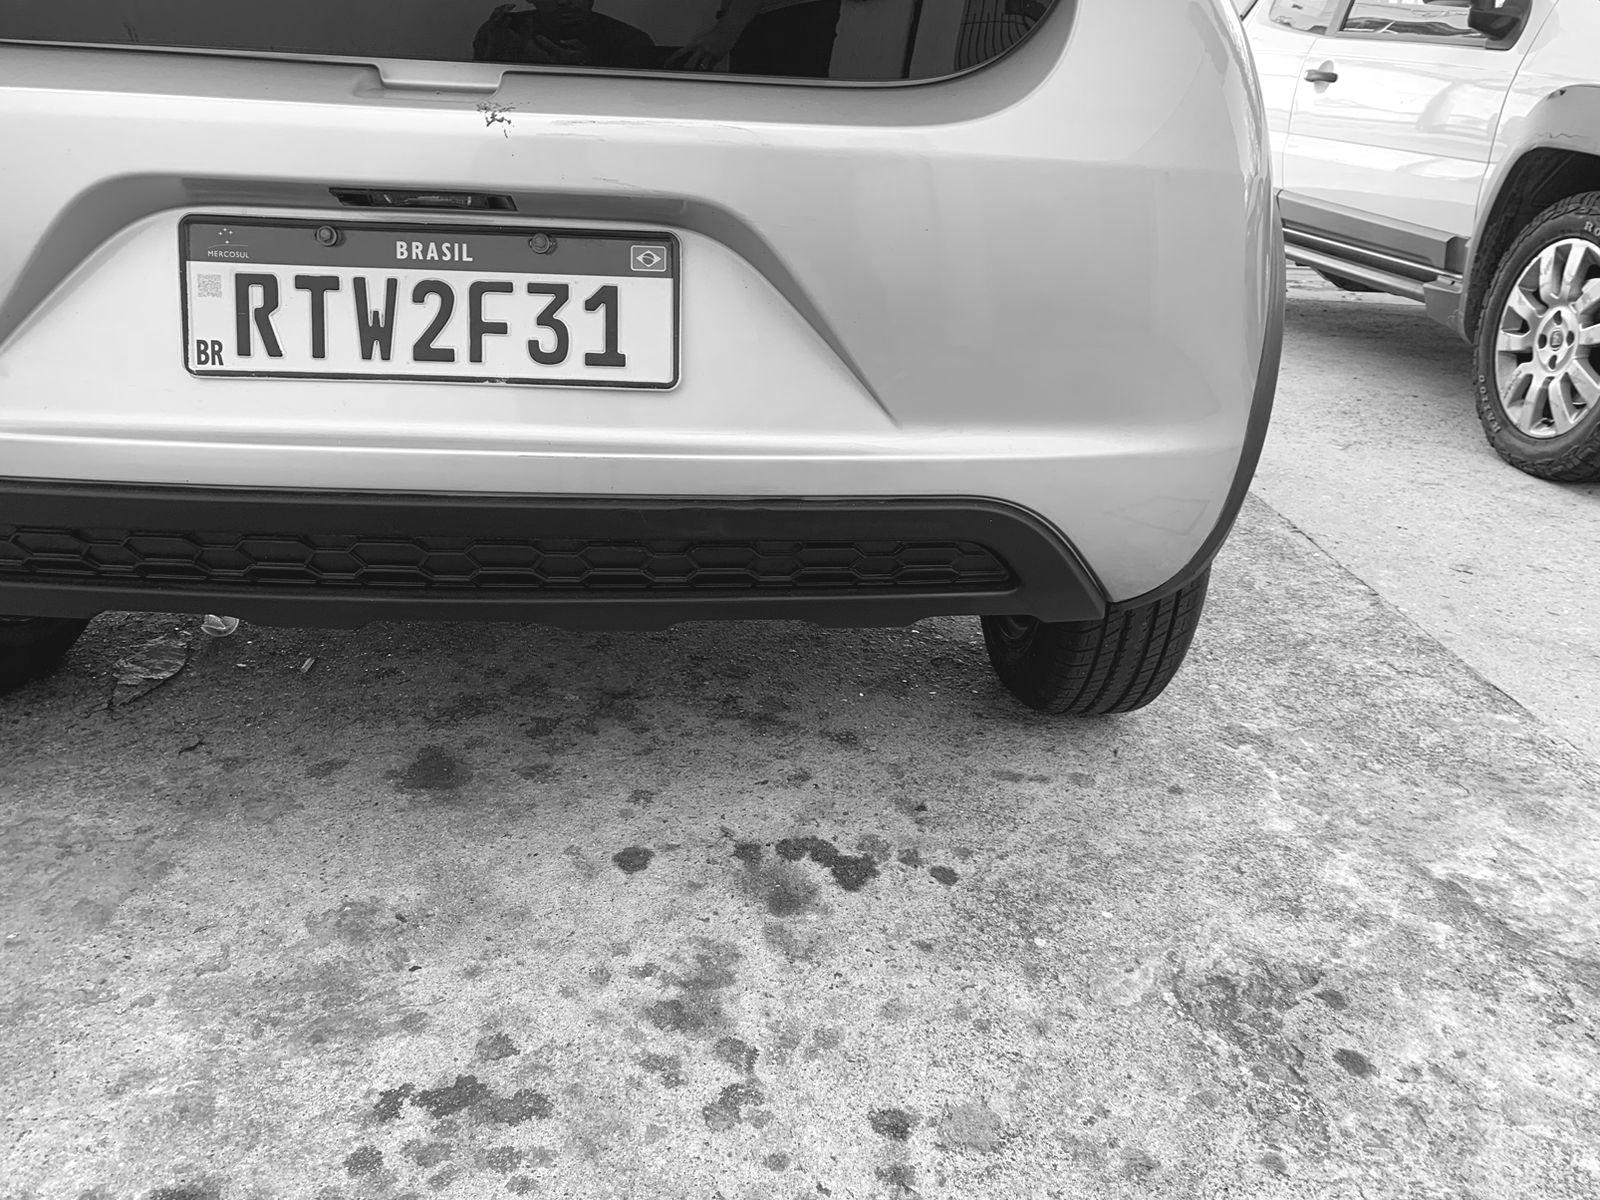placa_mercosul: (182, 216, 677, 388)
